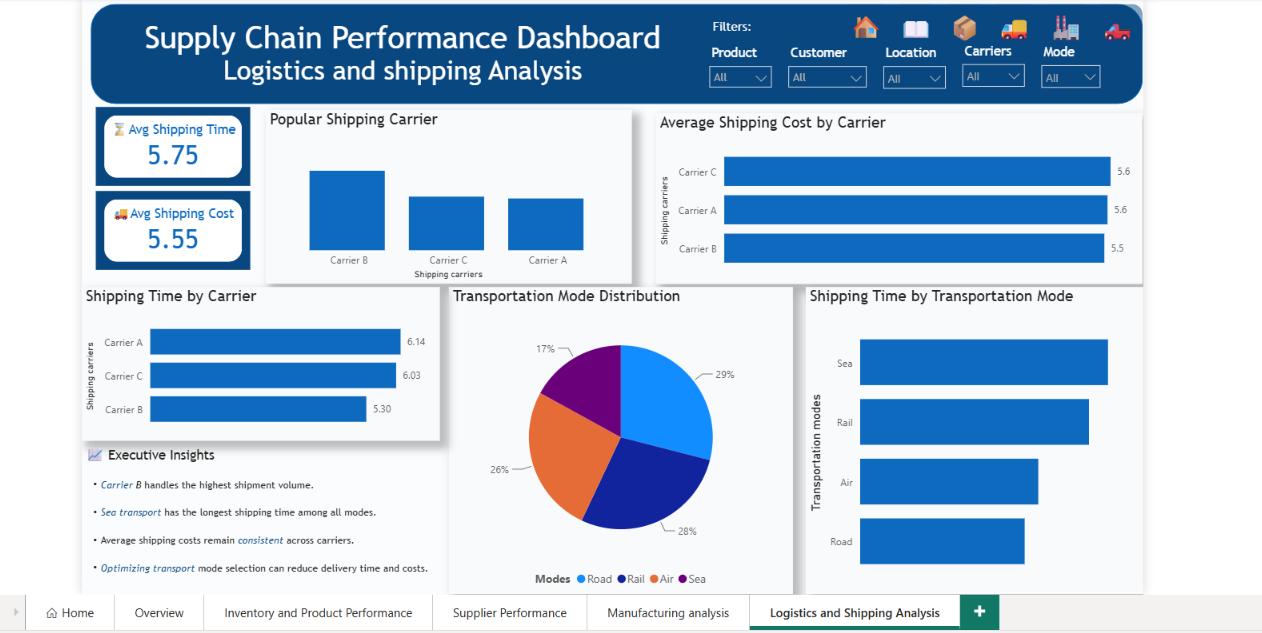

What the dashboard file says about the page in this screenshot:
{"tool":"powerbi","page":{"name":"Logistics and Shipping Analysis","canvas":[1280,720],"ordinal":5},"visuals":[{"type":"shape","box":[10.9,7.2,1269.2,120.6],"z":0},{"type":"actionButton","box":[914.5,7.2,62.7,44.3],"z":0,"group":"g2"},{"type":"slicer","fields":{"Values":["Sheet1.Product type"]},"box":[746.8,51.9,95.3,60.3],"z":0,"group":"g1"},{"type":"actionButton","title":"Overview Page","box":[977.2,7.2,57.9,44.3],"z":1000,"group":"g2"},{"type":"textbox","box":[48.3,20.5,678,107.4],"z":1000},{"type":"slicer","fields":{"Values":["Sheet1.Customer demographics"]},"box":[842.1,51.9,114.6,62.7],"z":1000,"group":"g1"},{"type":"actionButton","title":"Inventory and Product","box":[1035.1,7.2,60.3,47.5],"z":2000,"group":"g2"},{"type":"textbox","box":[645.4,20.5,278.7,42.2],"z":2000},{"type":"slicer","fields":{"Values":["Sheet1.Transportation modes"]},"box":[1147.3,50.7,91.7,61.5],"z":2000,"group":"g1"},{"type":"actionButton","title":"Supplier Performance","box":[1094.2,7.2,61.5,47.5],"z":3000,"group":"g2"},{"type":"slicer","fields":{"Values":["Sheet1.Shipping carriers"]},"box":[1052,49.5,95.3,67.6],"z":3000,"group":"g1"},{"type":"cardVisual","fields":{"Data":["Sheet1.Average Shipping Cost"]},"box":[11.5,228,196.2,105.3],"z":3000},{"type":"actionButton","title":"Manufacturing Analysis","box":[1155.7,7.2,63.9,46.4],"z":4000,"group":"g2"},{"type":"slicer","fields":{"Values":["Sheet1.Location"]},"box":[956.7,51.9,95.3,60.3],"z":4000,"group":"g1"},{"type":"cardVisual","fields":{"Data":["Sheet1.Average Shiiping Time"]},"box":[11.5,127,196.2,105.3],"z":4000},{"type":"actionButton","title":"Logistics and Shipping","box":[1219.7,7.2,60.3,50.7],"z":5000,"group":"g2"},{"type":"columnChart","title":"Popular Shipping Carrier","fields":{"Category":["Sheet1.Shipping carriers"],"Y":["CountNonNull(Sheet1.Shipping carriers)"]},"box":[222.2,135.6,441.5,209.2],"z":5000},{"type":"clusteredBarChart","title":"Average Shipping Cost by Carrier","fields":{"Category":["Sheet1.Shipping carriers"],"Y":["Avg(Sheet1.Shipping costs)"]},"box":[692.5,138.5,587.2,206.3],"z":6000},{"type":"pieChart","title":"Transportation Mode Distribution","fields":{"Y":["CountNonNull(Sheet1.Transportation modes)"],"Category":["Sheet1.Transportation modes"]},"box":[442.9,349.1,415.5,370.8],"z":7000},{"type":"clusteredBarChart","title":"Shipping Time by Carrier","fields":{"Category":["Sheet1.Shipping carriers"],"Y":["Avg(Sheet1.Shipping times)"]},"box":[0,348.7,431.9,185.8],"z":8000},{"type":"clusteredBarChart","title":"Shipping Time by Transportation Mode","fields":{"Category":["Sheet1.Transportation modes"],"Y":["Avg(Sheet1.Shipping times)"]},"box":[872.9,349.1,406.9,370.8],"z":9000},{"type":"group","id":"g1","title":"Group 1","box":[746.8,49.5,492.2,67.6],"z":10000},{"type":"group","id":"g2","title":"Group 2","box":[914.5,7.2,365.6,50.7],"z":11000},{"type":"textbox","box":[0,534.5,430.7,185.8],"z":12000}]}

Visuals, with their boxes on the page's 1280x720 design canvas (x1, y1, x2, y2). These are canvas units, not pixel positions in the 1262x633 screenshot, which may show the page scaled, cropped or inside an application window:
shape: rect(11, 7, 1280, 128)
actionButton: rect(914, 7, 977, 52)
slicer - Sheet1.Product type: rect(747, 52, 842, 112)
"Overview Page" actionButton: rect(977, 7, 1035, 52)
textbox: rect(48, 20, 726, 128)
slicer - Sheet1.Customer demographics: rect(842, 52, 957, 115)
"Inventory and Product" actionButton: rect(1035, 7, 1095, 55)
textbox: rect(645, 20, 924, 63)
slicer - Sheet1.Transportation modes: rect(1147, 51, 1239, 112)
"Supplier Performance" actionButton: rect(1094, 7, 1156, 55)
slicer - Sheet1.Shipping carriers: rect(1052, 50, 1147, 117)
cardVisual - Sheet1.Average Shipping Cost: rect(12, 228, 208, 333)
"Manufacturing Analysis" actionButton: rect(1156, 7, 1220, 54)
slicer - Sheet1.Location: rect(957, 52, 1052, 112)
cardVisual - Sheet1.Average Shiiping Time: rect(12, 127, 208, 232)
"Logistics and Shipping" actionButton: rect(1220, 7, 1280, 58)
"Popular Shipping Carrier" columnChart: rect(222, 136, 664, 345)
"Average Shipping Cost by Carrier" clusteredBarChart: rect(692, 138, 1280, 345)
"Transportation Mode Distribution" pieChart: rect(443, 349, 858, 720)
"Shipping Time by Carrier" clusteredBarChart: rect(0, 349, 432, 534)
"Shipping Time by Transportation Mode" clusteredBarChart: rect(873, 349, 1280, 720)
"Group 1" group: rect(747, 50, 1239, 117)
"Group 2" group: rect(914, 7, 1280, 58)
textbox: rect(0, 534, 431, 720)
